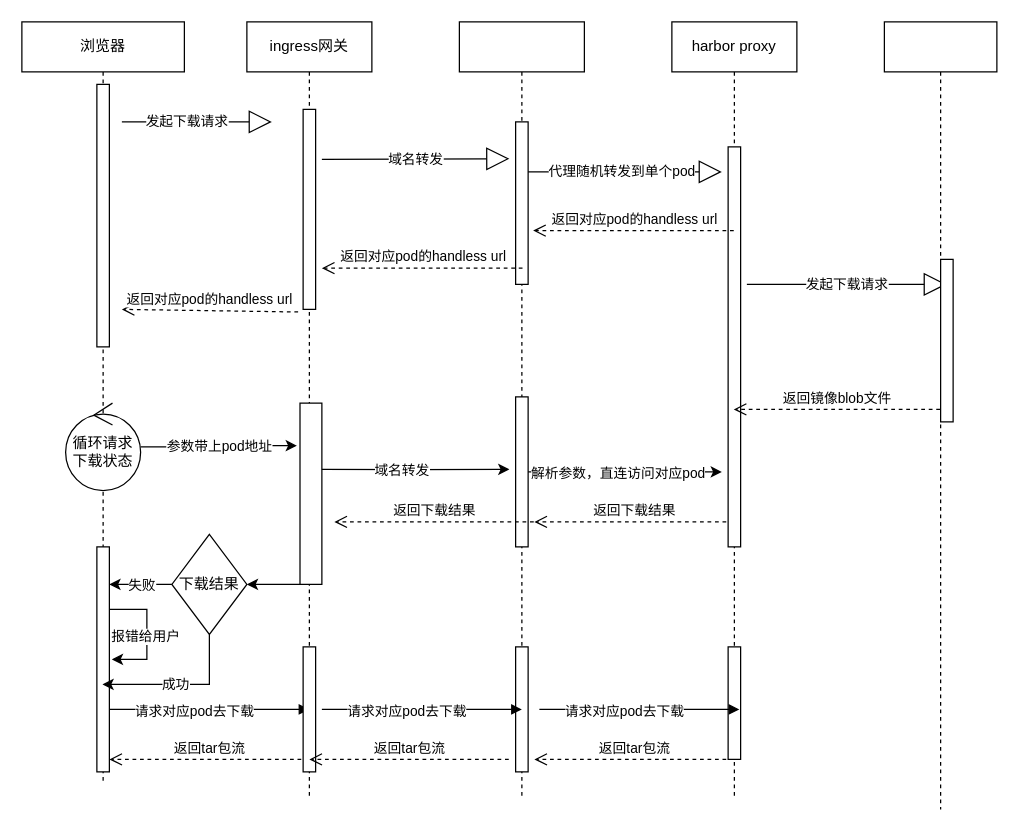
Image size: 1019x831. Some labels were removed from this diagram. Each missing label, with the centre of its shape:
"harbor" goes at (x=940, y=415).
"node server" goes at (x=521, y=409).
